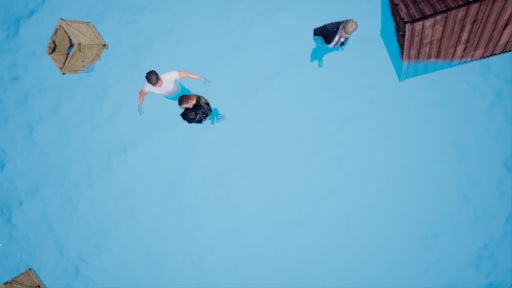person: (132, 66, 229, 132), (294, 17, 355, 74)
